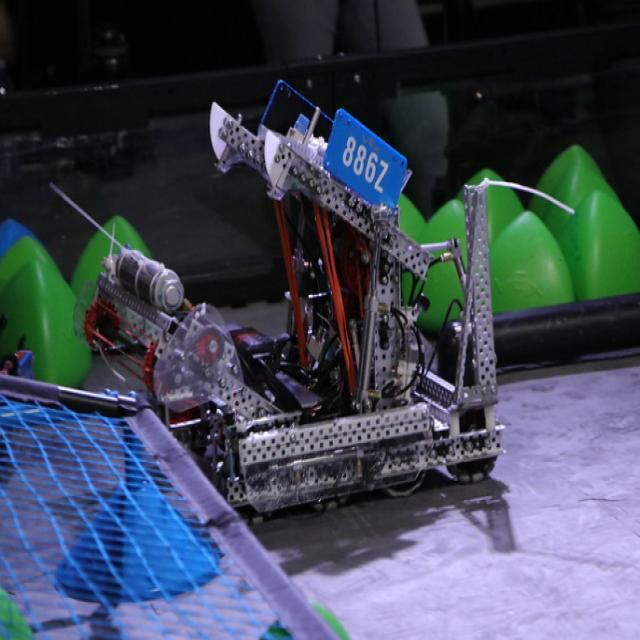License-Plates: (324, 113, 409, 219)
